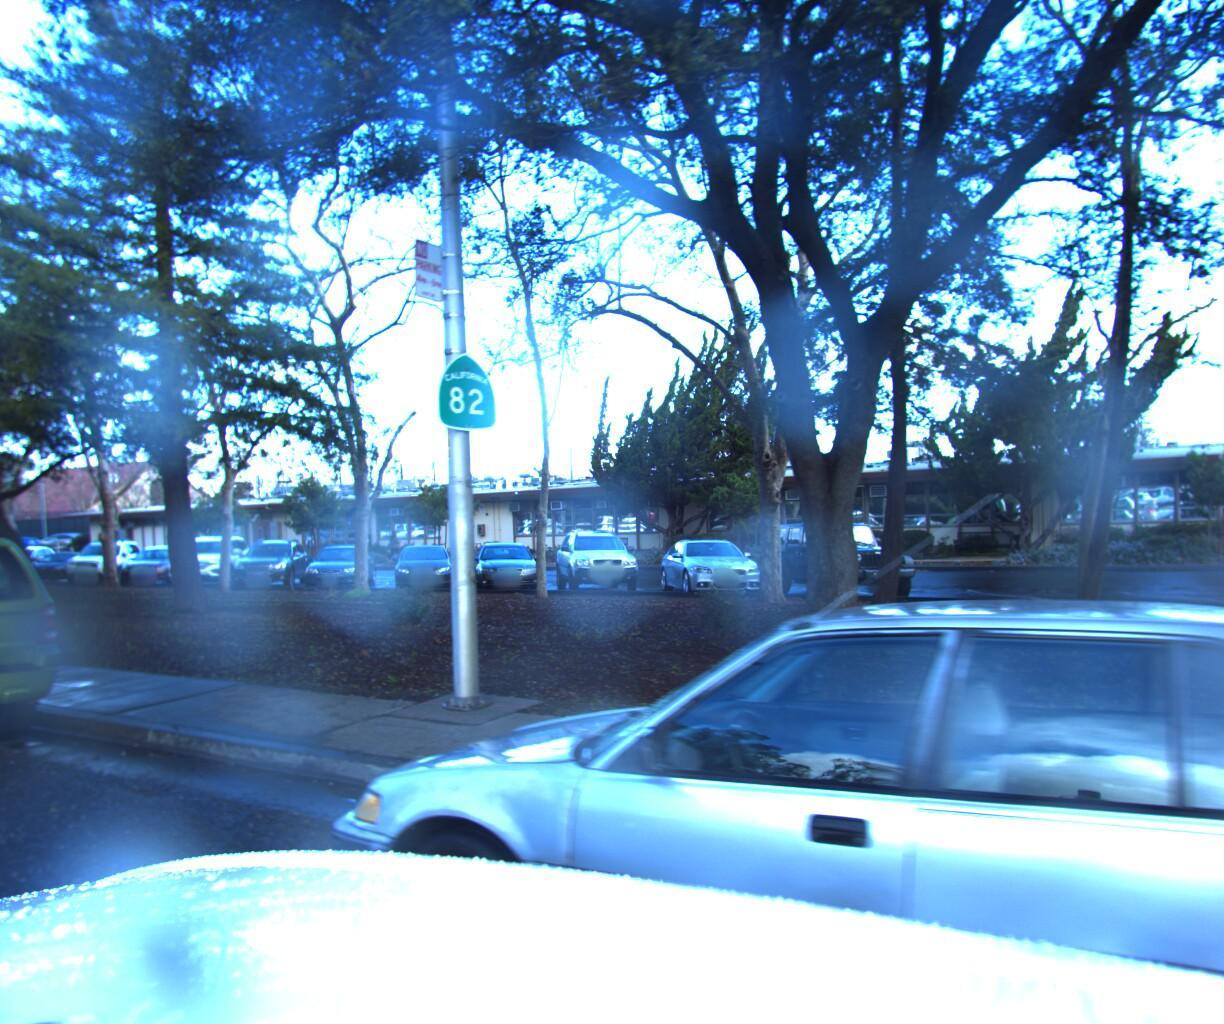car: (278, 570, 1224, 1024), (0, 529, 95, 804)
